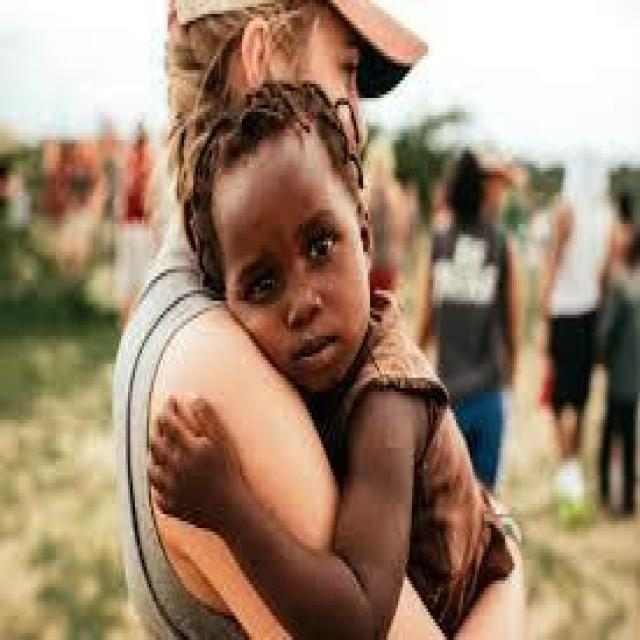person: (128, 0, 463, 630), (163, 105, 521, 636)
